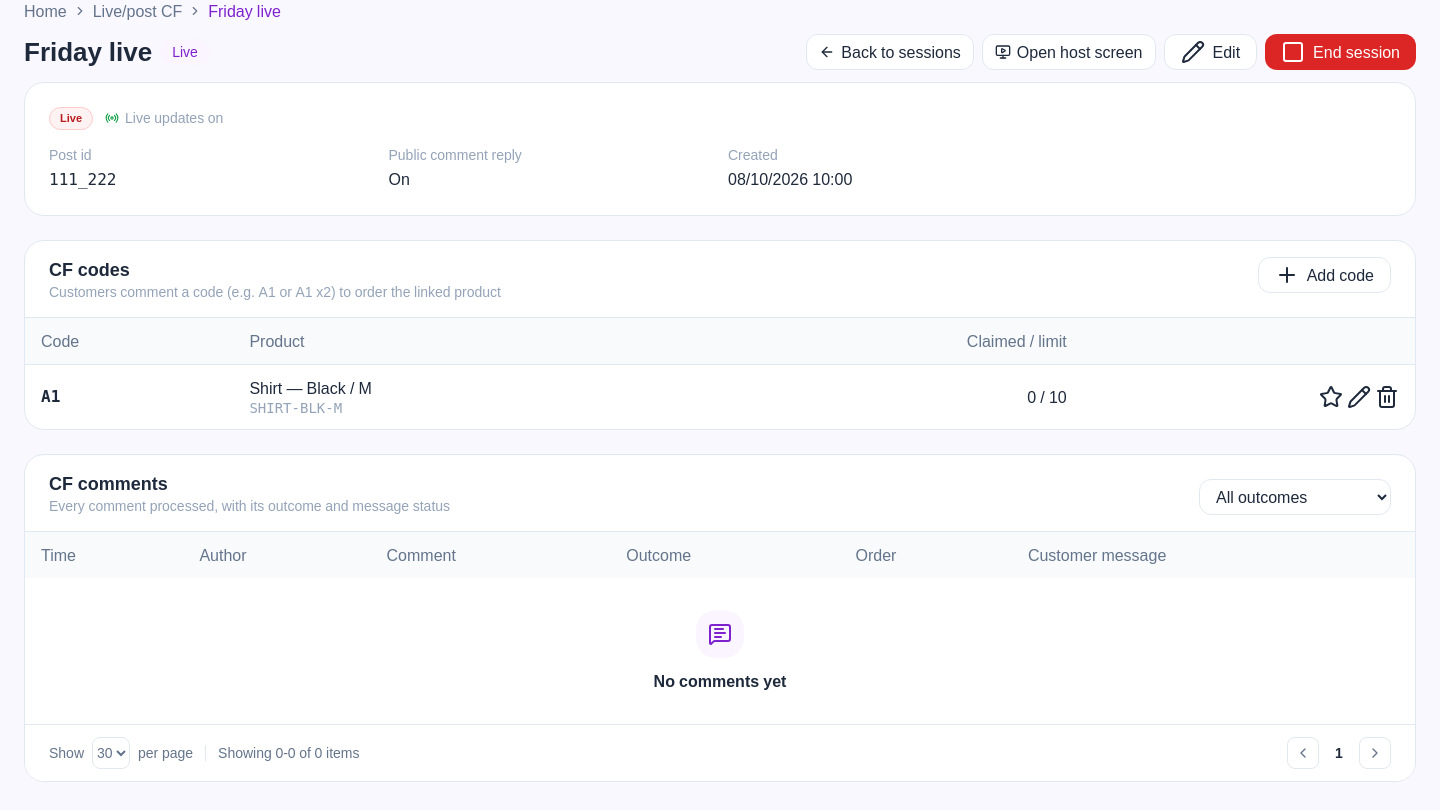
it: SessionDetail › LIVE: ຈົບ ຕ້ອງຢືນຢັນ → POST /end; ຈົບແລ້ວບໍ່ມີປຸ່ມ action/ແກ້
Click the button "End session" at (1341, 52), box x1=1265 y1=34 x2=1416 y2=70
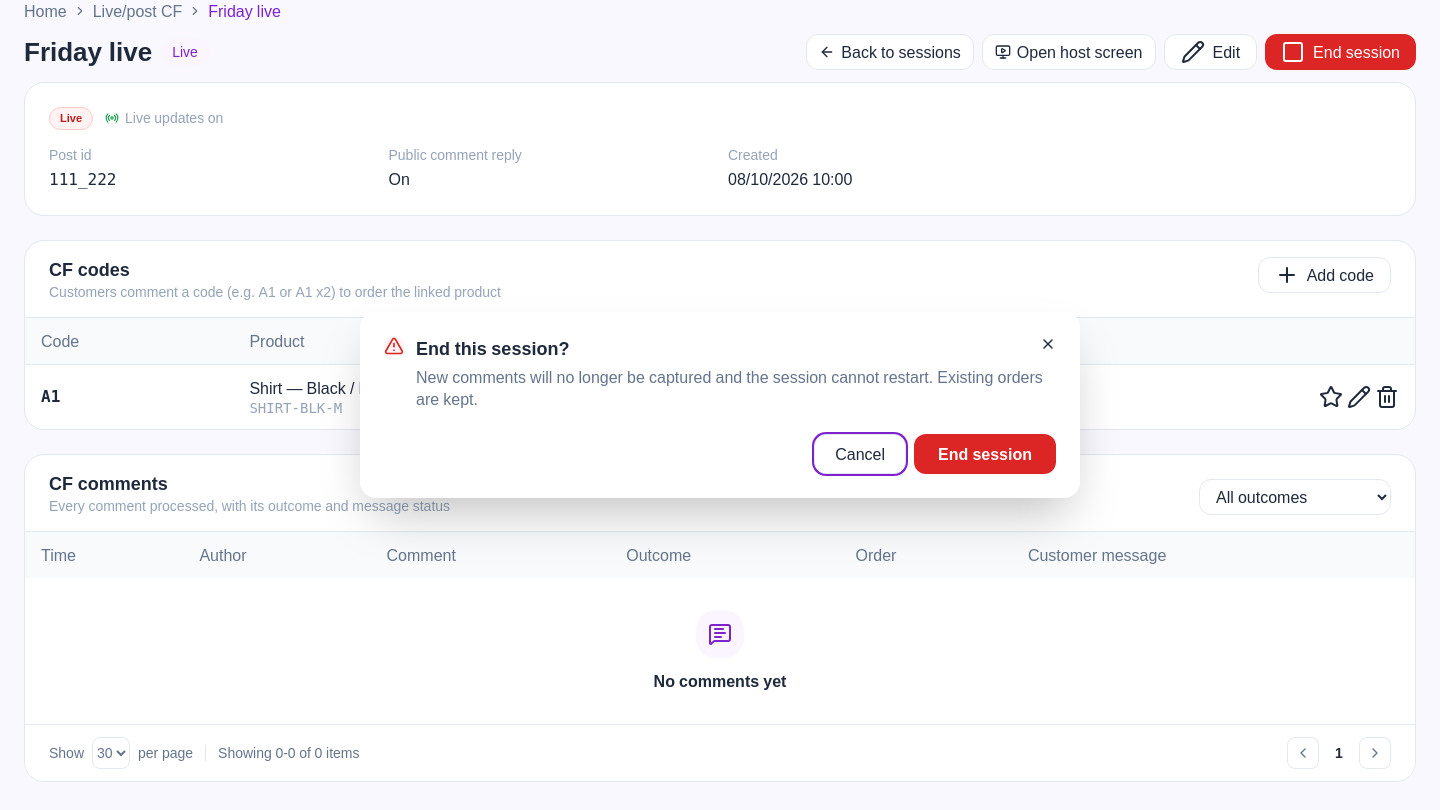
Click the button "End session" at (985, 454), box x1=914 y1=434 x2=1056 y2=474
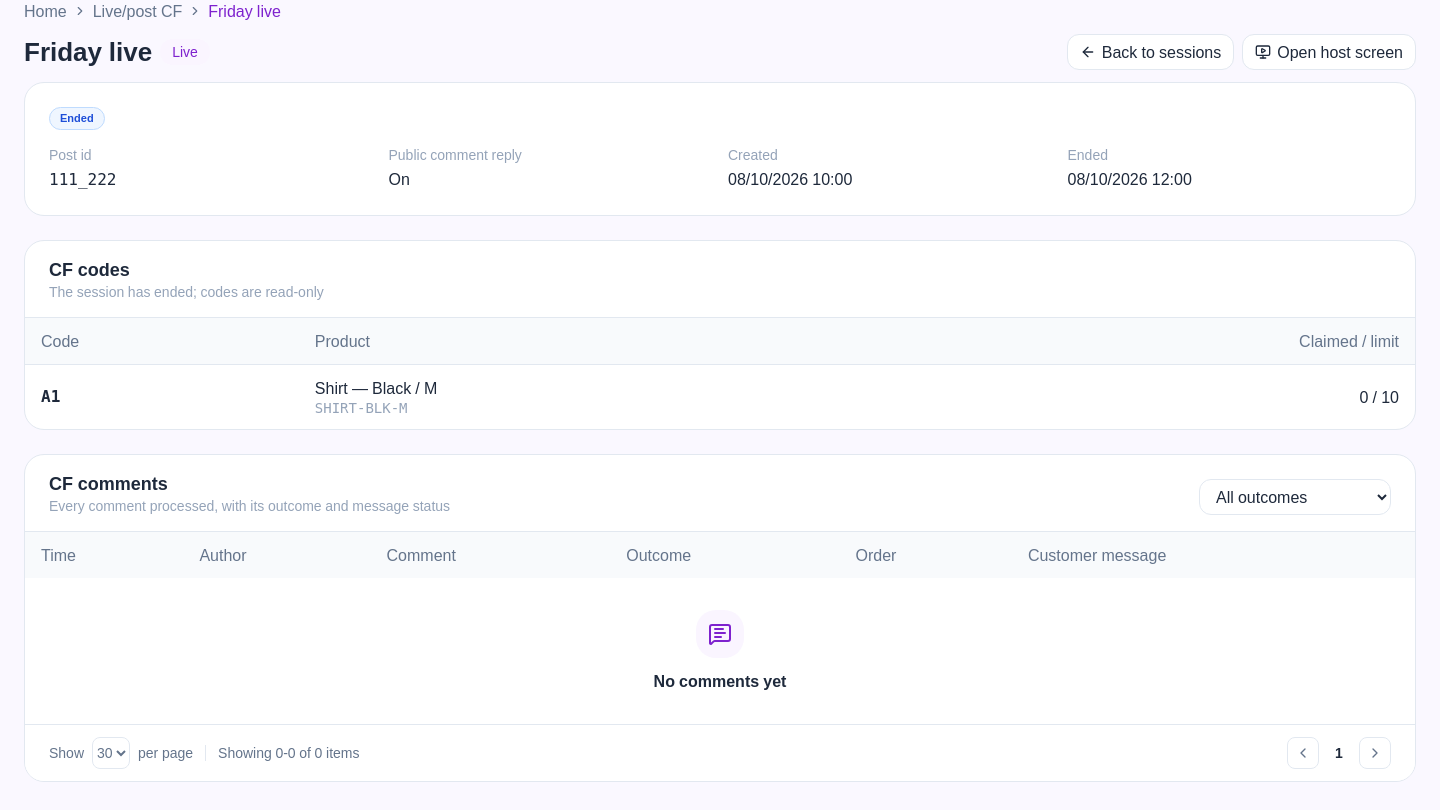
Now the 1st text "Ended" is shown, box x1=49 y1=107 x2=105 y2=130
Now the button "End session" is gone
Now the button "Edit" is gone
